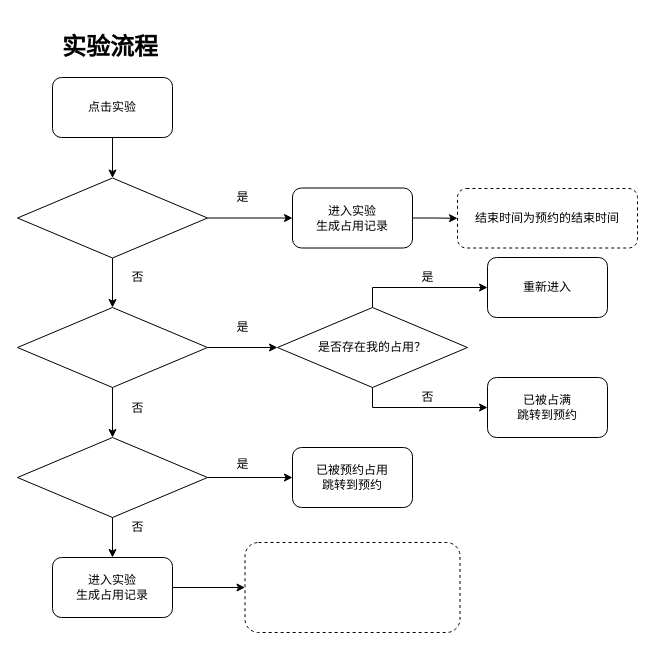
This 655x650 diagram has some shape labels left out. The box of each missing label's shape, as (x1, y1, x2, y2) in pixels:
如果下个时间段有人预约 结束时间为下个时间段的开始时间 如果下个时间段无人预约 结束时间为默认值: (244, 542, 460, 632)
当前时间是否存在我的预约？: (16, 177, 208, 258)
当前时间段是否存在他人预约？: (16, 436, 208, 518)
资源是否占满？: (16, 306, 208, 388)
